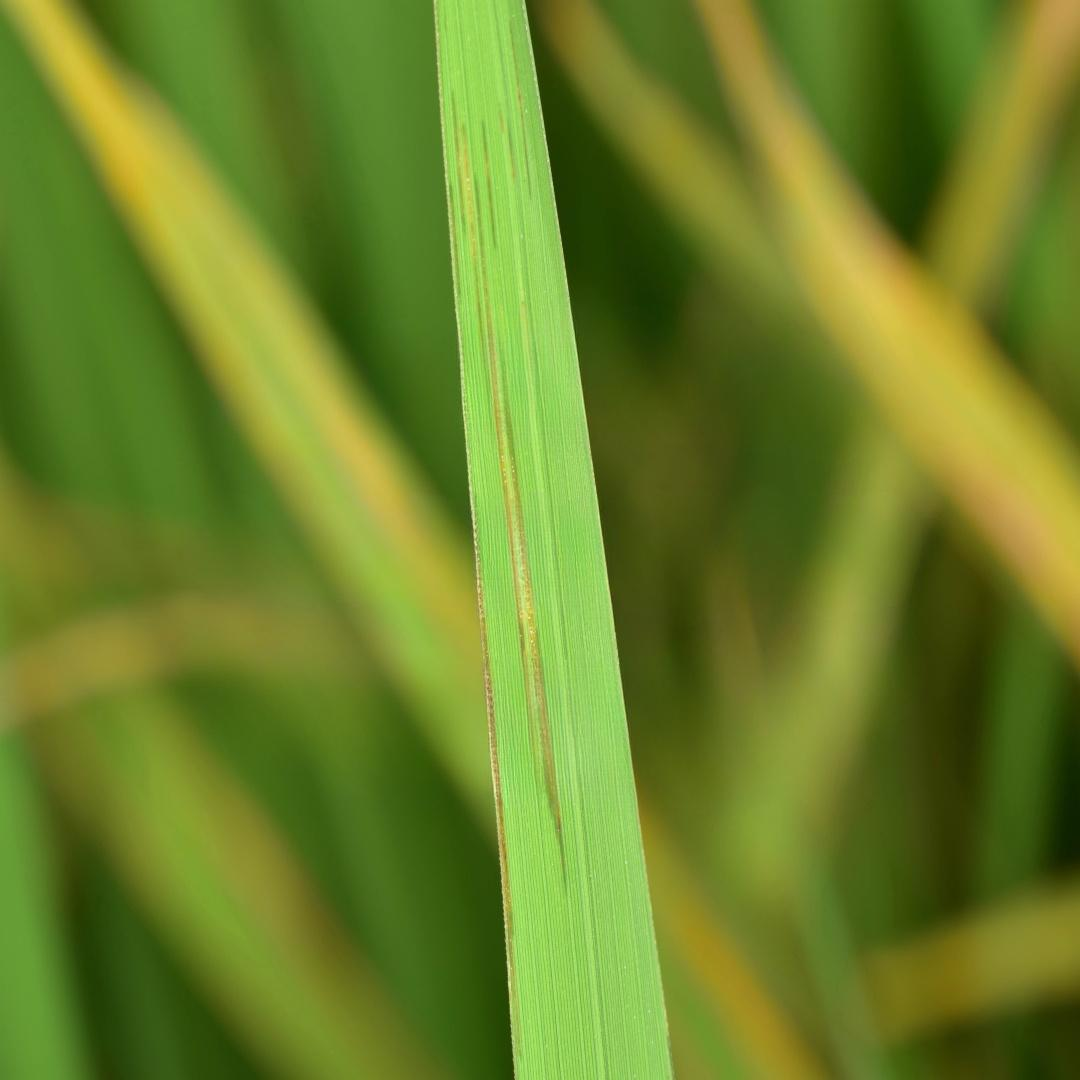BLS: (474, 174, 564, 884), (468, 446, 522, 1059), (461, 127, 486, 367), (511, 22, 532, 196), (450, 92, 466, 266), (481, 120, 496, 251), (449, 181, 461, 296), (508, 123, 515, 179), (499, 102, 504, 133)
LEAF: (435, 0, 671, 1079)
